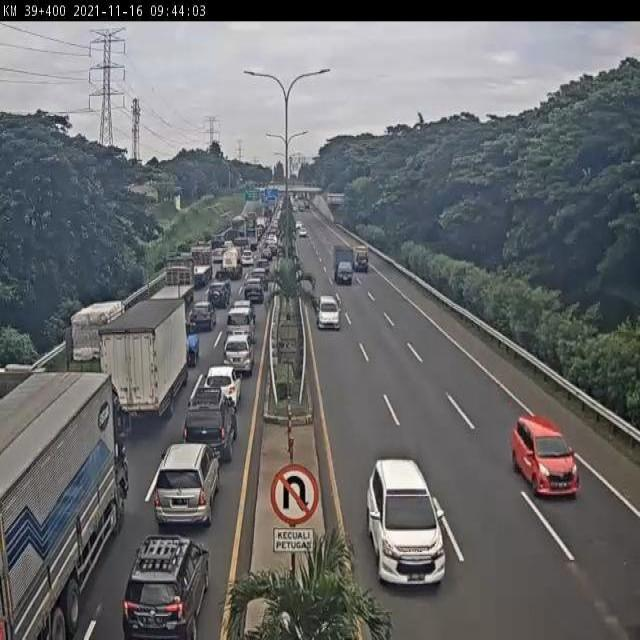Car: (367, 458, 445, 585), (121, 533, 210, 640), (510, 412, 582, 498), (150, 442, 220, 527), (182, 389, 238, 464), (202, 365, 243, 412), (223, 331, 256, 376), (188, 301, 216, 333), (316, 295, 341, 330), (227, 302, 254, 329), (208, 278, 231, 307), (250, 266, 268, 287), (266, 234, 278, 253), (262, 244, 274, 260)
Truck: (0, 368, 125, 640), (97, 298, 189, 430), (191, 245, 215, 285), (334, 246, 354, 283), (221, 247, 242, 280)
